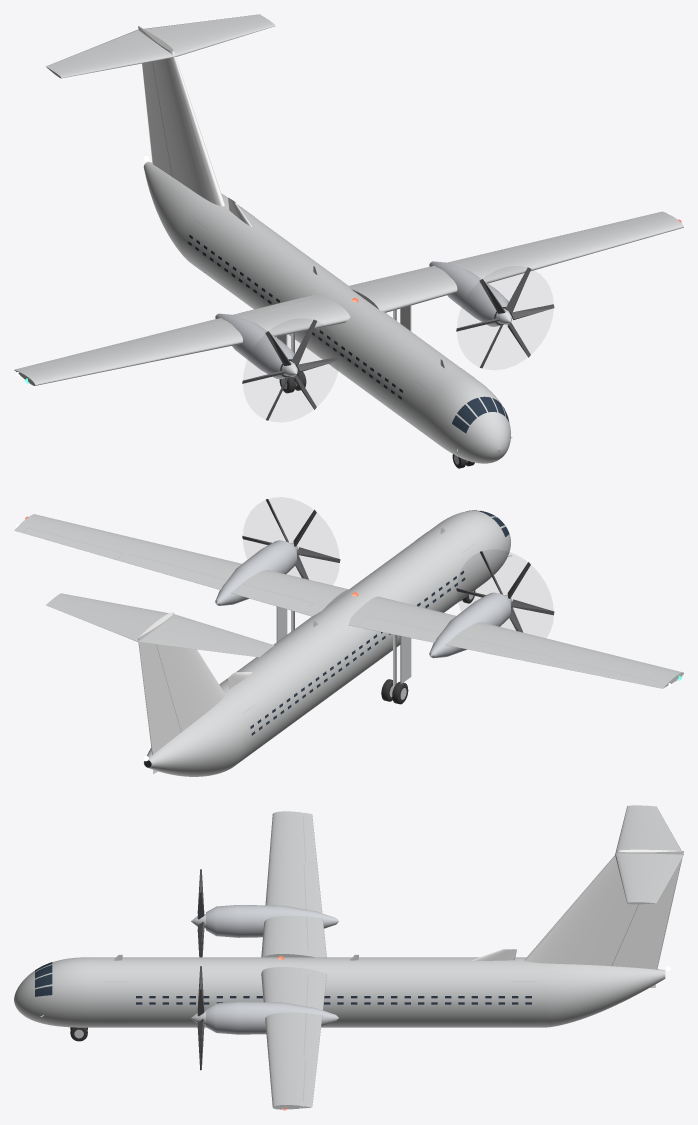
3 renders of one model, top to bottom at view 1: azimuth 30°, elevation 25°; view 2: azimuth 150°, elevation 25°; view 3: azimuth 270°, elevation 25°, orthographic. The views are drawn at different scales.
Parts seen in each view (by area): view 1: airframe, prop (×2), gear; view 2: airframe, prop (×2), gear; view 3: airframe, prop.
Boxes of the visible parts, box(x1,y1,x2,y2) form: airframe: box(14, 14, 683, 463); prop (×2): box(242, 267, 554, 420); gear: box(276, 305, 474, 468); airframe: box(14, 510, 683, 776); prop (×2): box(242, 499, 554, 632); gear: box(276, 590, 475, 704); airframe: box(14, 805, 683, 1110); prop: box(197, 966, 204, 1070).
Bounding box in the file's own units: 27.71 × 8.16 × 26.43.
